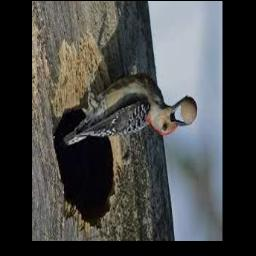Woodpecker: (63, 73, 192, 147)
